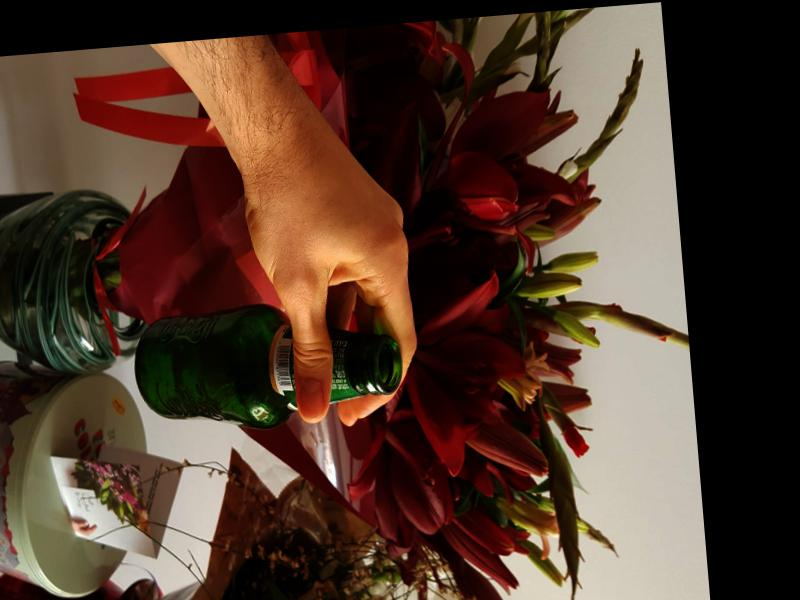Beer: (130, 298, 404, 438)
